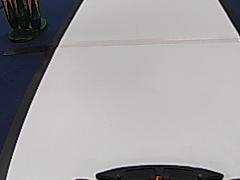corn: (1, 0, 50, 42)
